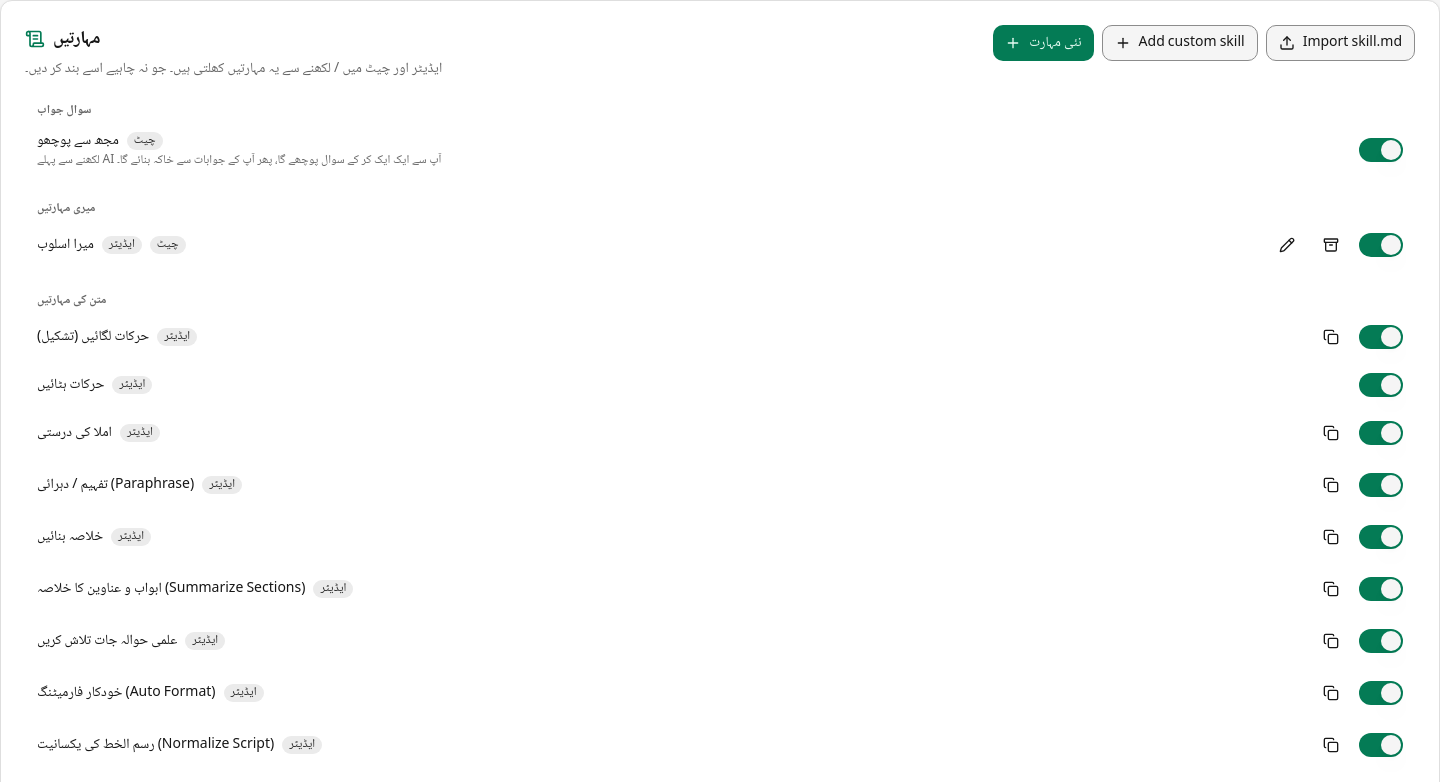
SkillsPanel › Add custom skill: shows validation errors from the backend, then saves
This screenshot has width=1440, height=782.
Later steps or results of the test are not shown.
Click the button "Add custom skill".
click(1180, 43)  # box [1102,25,1258,61]
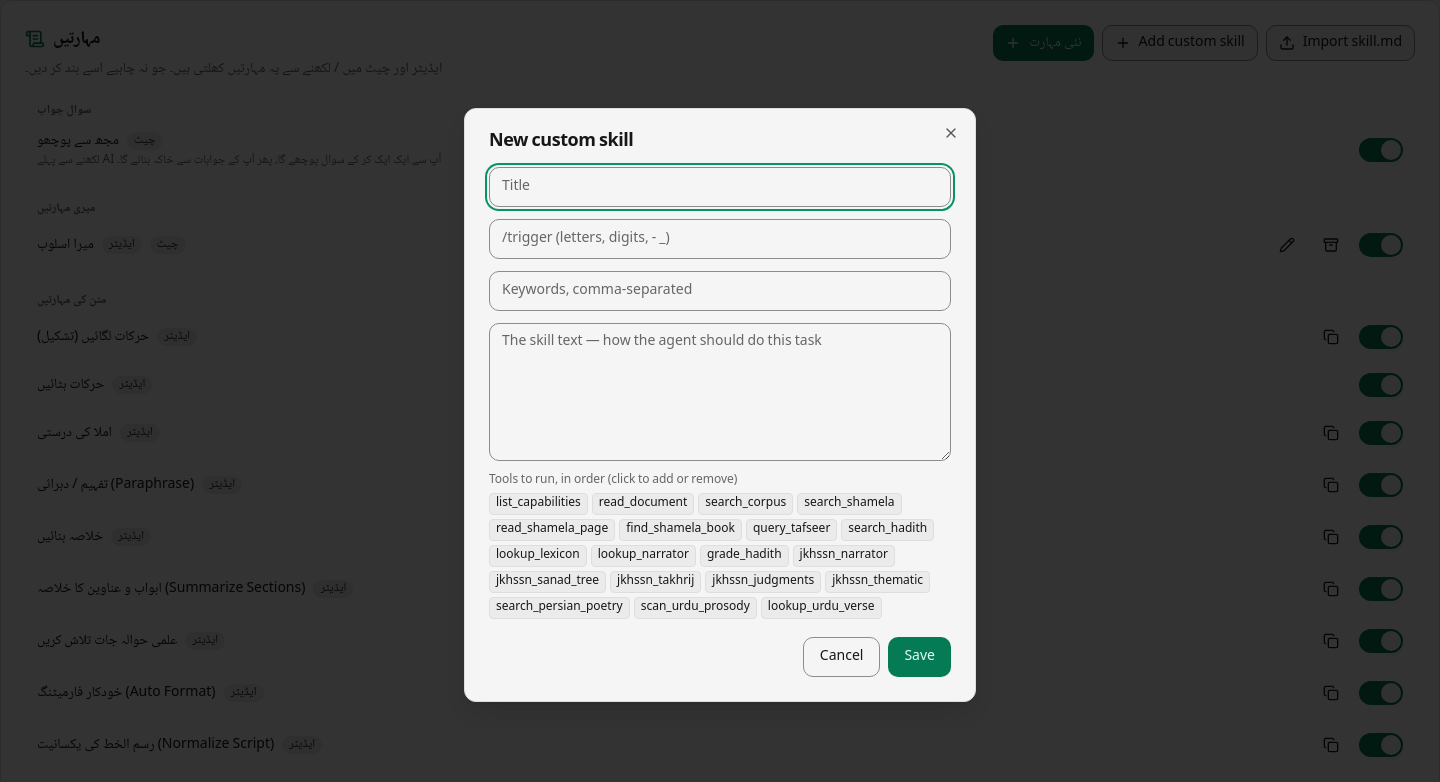
Type "New one" into the field labelled "Title".
click(720, 187); type("New one")  # box [489,167,951,207]
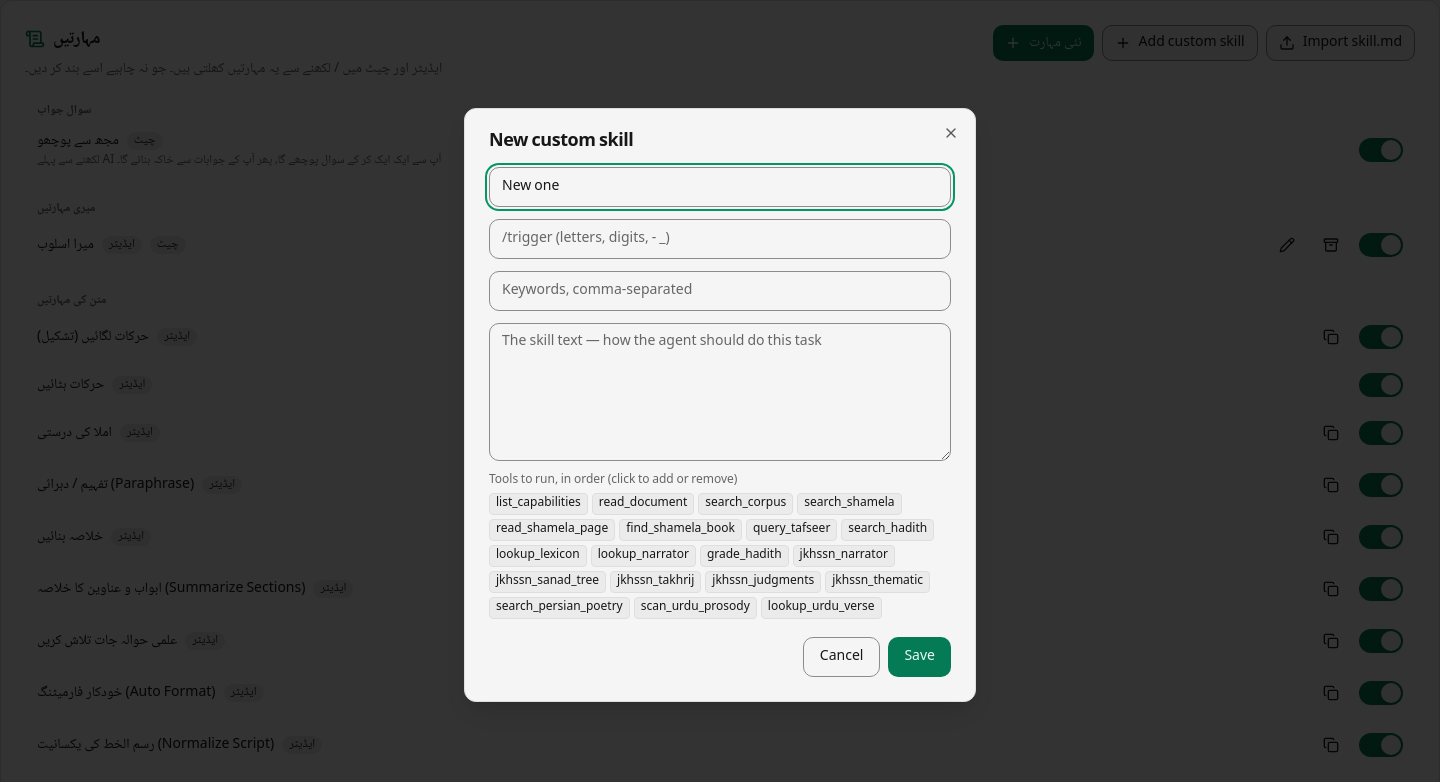
Click the button "Save".
click(920, 657)  # box [888,637,951,677]
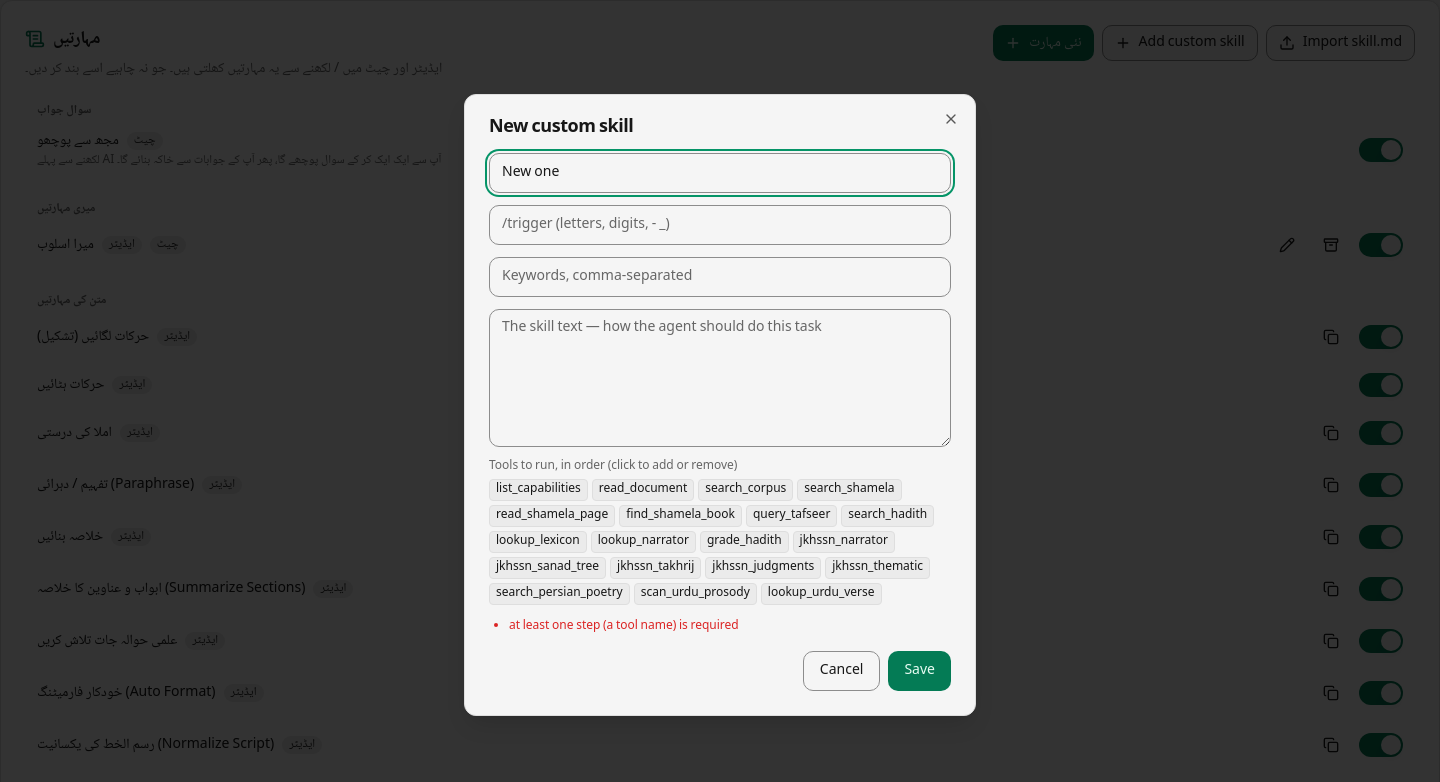
Expected: the message shows "at least one step", [509,616,739,637]
